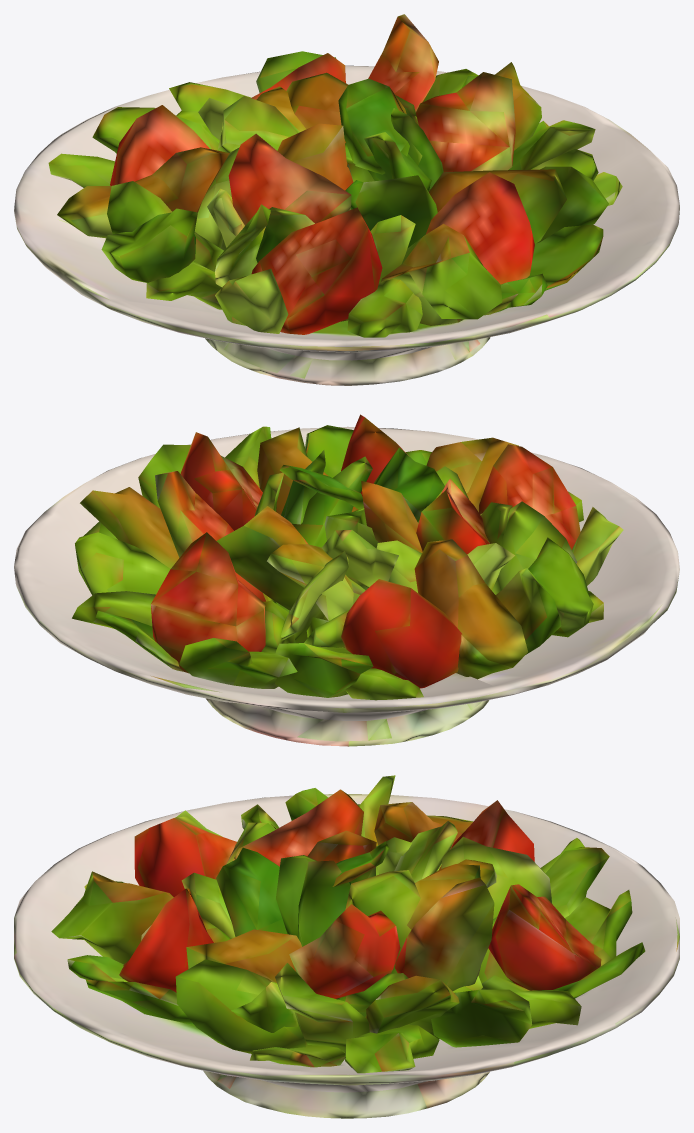
The model's file is salad.glb.
The picture shows the model from 3 angles, top to bottom: view 1: azimuth 30°, elevation 25°; view 2: azimuth 150°, elevation 25°; view 3: azimuth 270°, elevation 25°; orthographic projection.
Visible parts, largest first — view 1: Mesh_0.001; view 2: Mesh_0.001; view 3: Mesh_0.001.
Boxes of the visible parts, <box> form: Mesh_0.001: <box>14,14,679,385</box>; Mesh_0.001: <box>14,414,679,746</box>; Mesh_0.001: <box>14,775,679,1118</box>.
Size of the model in its own units: 0.2557 by 0.1 by 0.2557.
Materials: 1 (1 with a texture image).
